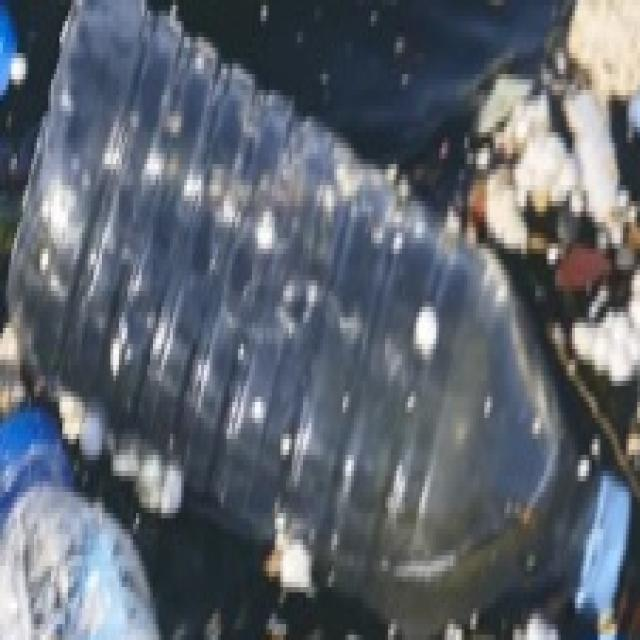plastic bottle: (17, 0, 640, 635)
